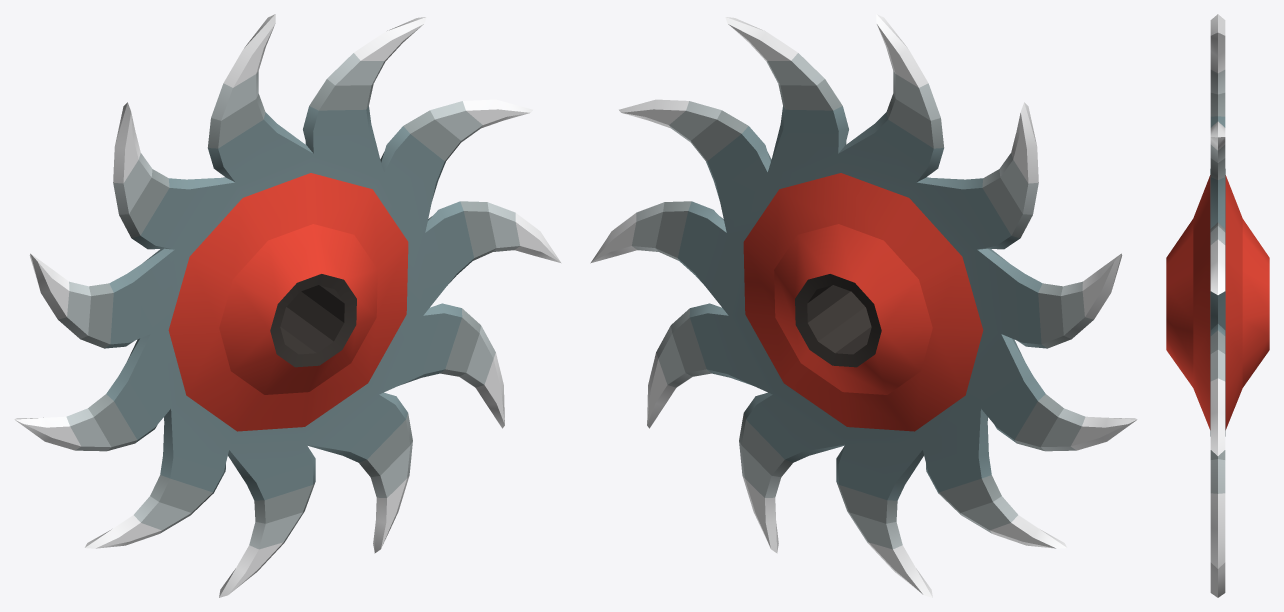
File: Saw.fbx
The picture shows the model from 3 angles, left to right: view 1: azimuth 30°, elevation 25°; view 2: azimuth 150°, elevation 25°; view 3: azimuth 270°, elevation 25°; orthographic projection. The views are drawn at different scales.
Parts seen in each view (by area): view 1: Circle.012; view 2: Circle.012; view 3: Circle.012.
Part boxes in pixels (left/top/right/bottom): Circle.012: left=14, top=14, right=561, bottom=597; Circle.012: left=590, top=14, right=1137, bottom=597; Circle.012: left=1166, top=14, right=1269, bottom=597.
Bounding box in the file's own units: 2.75 × 2.74 × 0.4857.
